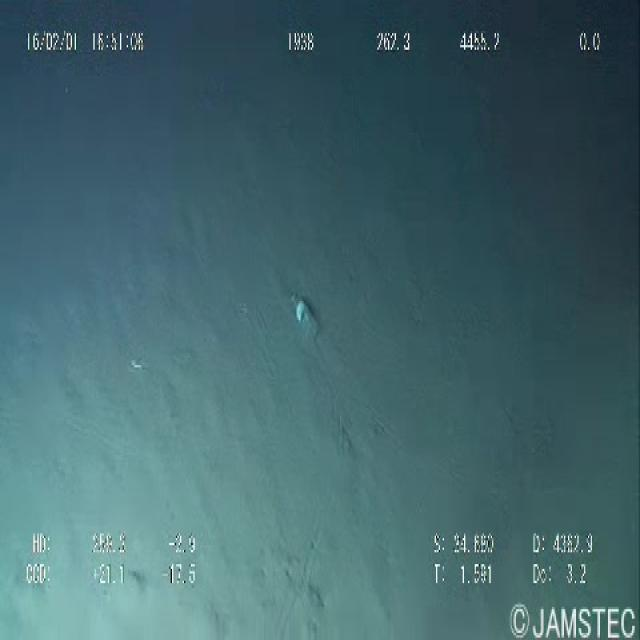plastic: (284, 282, 327, 346)
